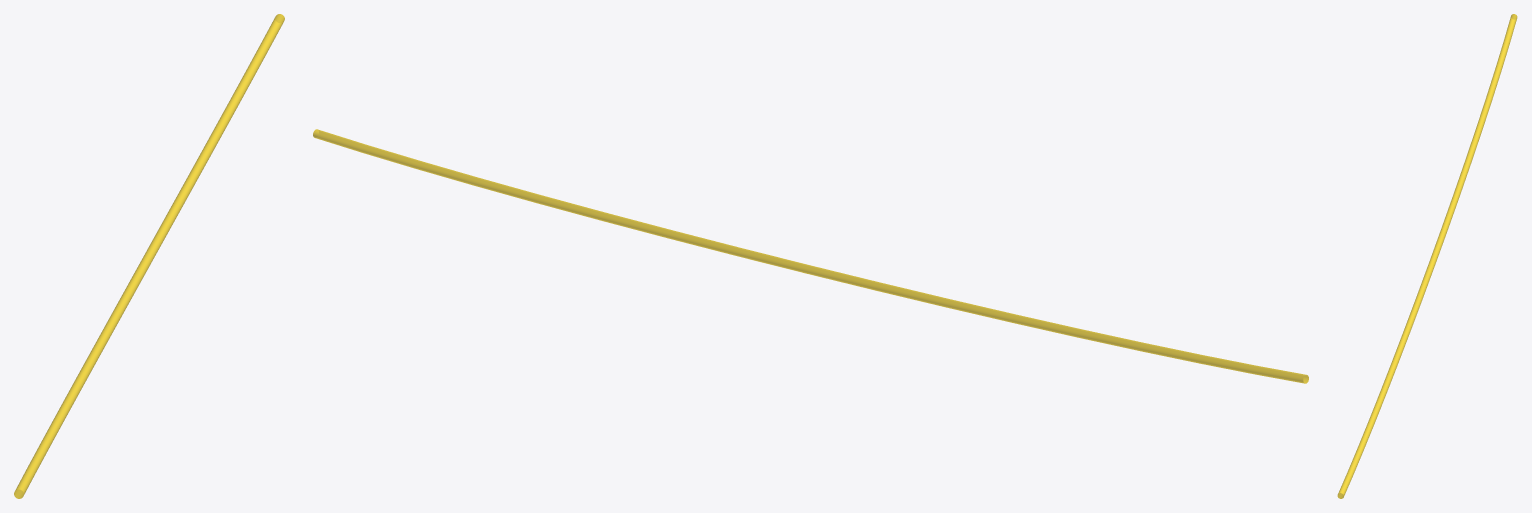
The model's file is Event_31209032_track_21.fbx.
The picture shows the model from 3 angles, left to right: view 1: azimuth 90°, elevation 25°; view 2: azimuth 150°, elevation 25°; view 3: azimuth 270°, elevation 25°; orthographic projection. The views are drawn at different scales.
Visible parts, largest first — view 1: Model; view 2: Model; view 3: Model.
Part boxes in pixels (box(x1,y1,x2,y2)): Model: box(14, 14, 284, 498); Model: box(313, 129, 1308, 383); Model: box(1337, 14, 1517, 498).
Size of the model in its own units: 5.68 by 0.5828 by 1.09.
